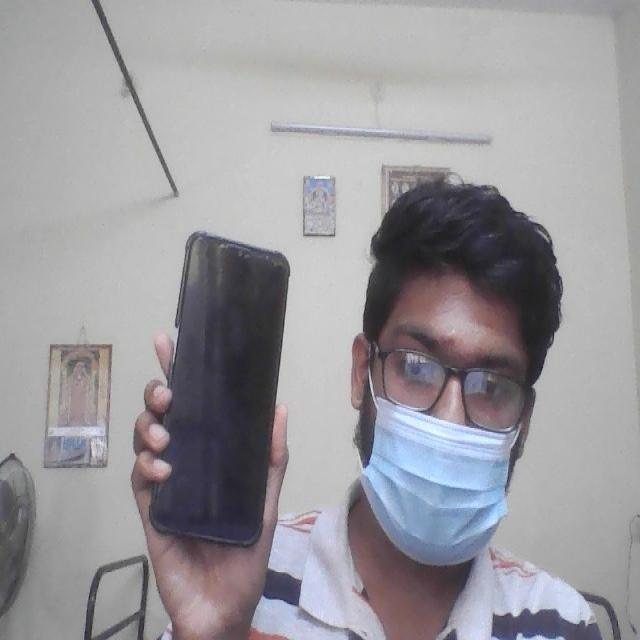Mobile: (164, 221, 291, 544)
